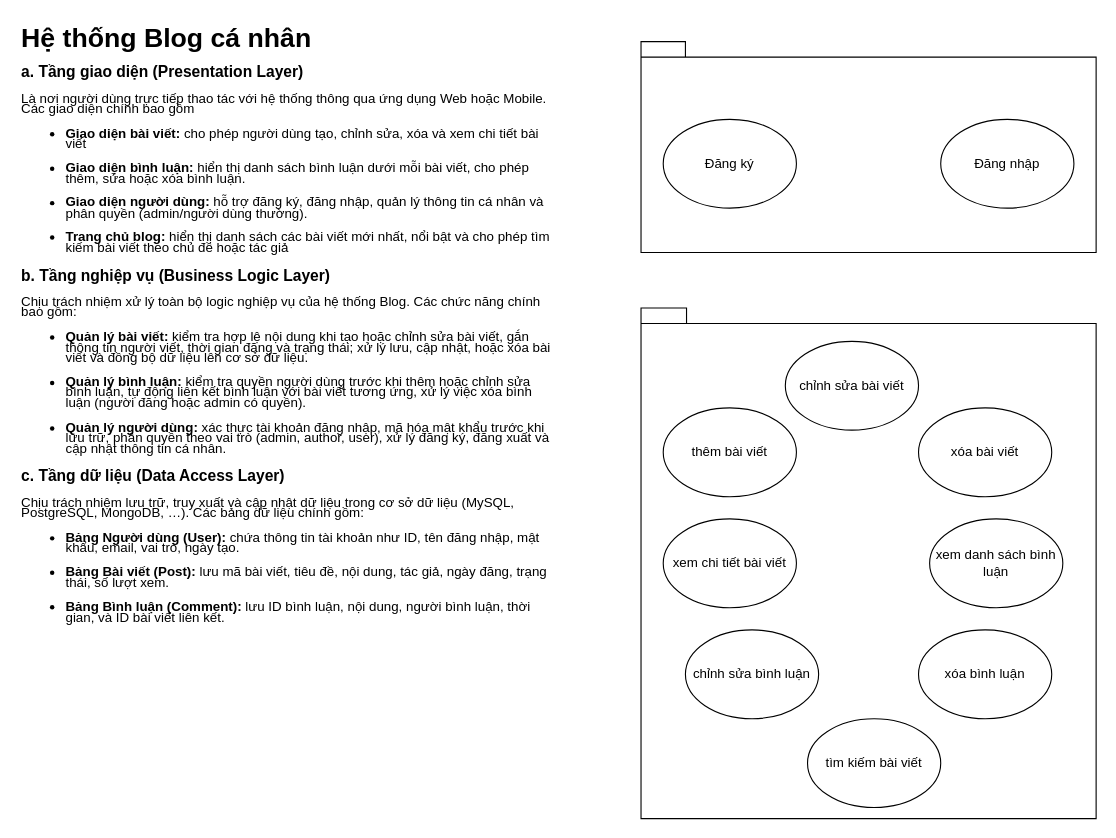
Image size: 1116x838. Some labels were removed from this diagram. Each missing label, with the box of its shape:
AUTHENTICATION: (640, 41, 1096, 253)
POST: (640, 307, 1096, 819)
